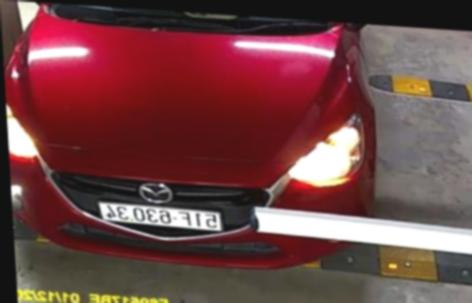License_Plate: (95, 203, 225, 235)
